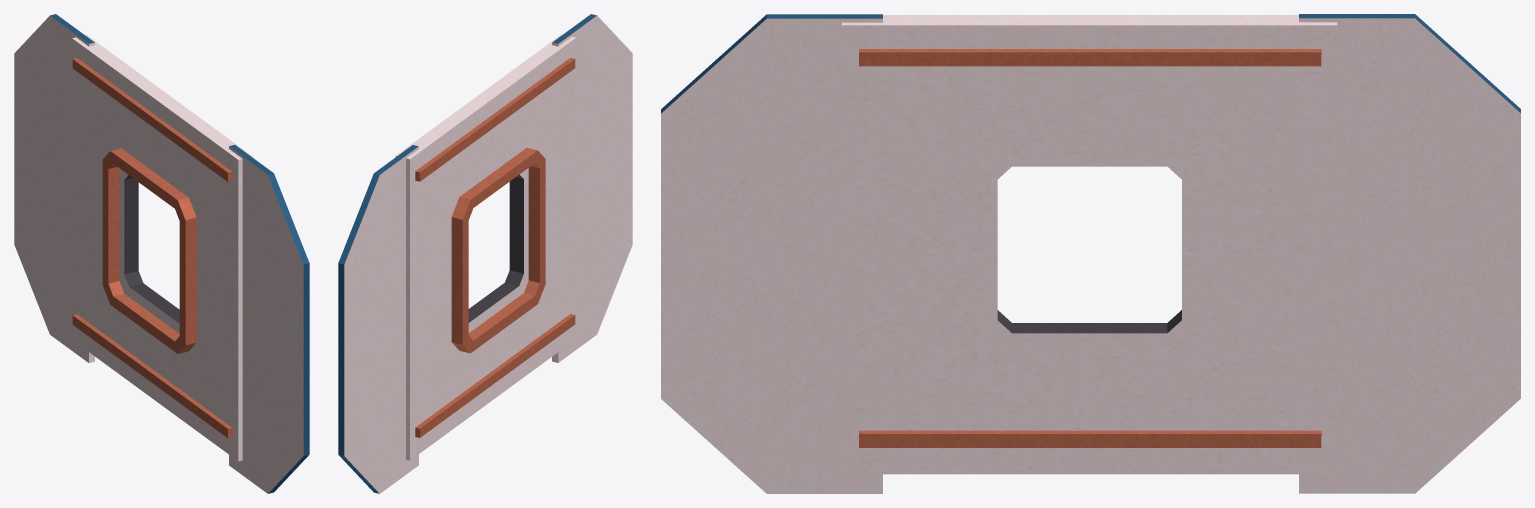
The model's file is Wall.fbx.
3 renders of one model, left to right at view 1: azimuth 30°, elevation 25°; view 2: azimuth 150°, elevation 25°; view 3: azimuth 270°, elevation 25°, orthographic. The views are drawn at different scales.
Visible parts, largest first — view 1: MeshBaker___30_00___30_00___60_00__mesh_mesh; view 2: MeshBaker___30_00___30_00___60_00__mesh_mesh; view 3: MeshBaker___30_00___30_00___60_00__mesh_mesh.
Part boxes in pixels (x1,y1,x2,y2): MeshBaker___30_00___30_00___60_00__mesh_mesh: (14,14,309,493); MeshBaker___30_00___30_00___60_00__mesh_mesh: (338,14,632,493); MeshBaker___30_00___30_00___60_00__mesh_mesh: (661,14,1520,493).
Bounding box in the file's own units: 41.96 × 424 × 694.
1 material, 1 textured.
